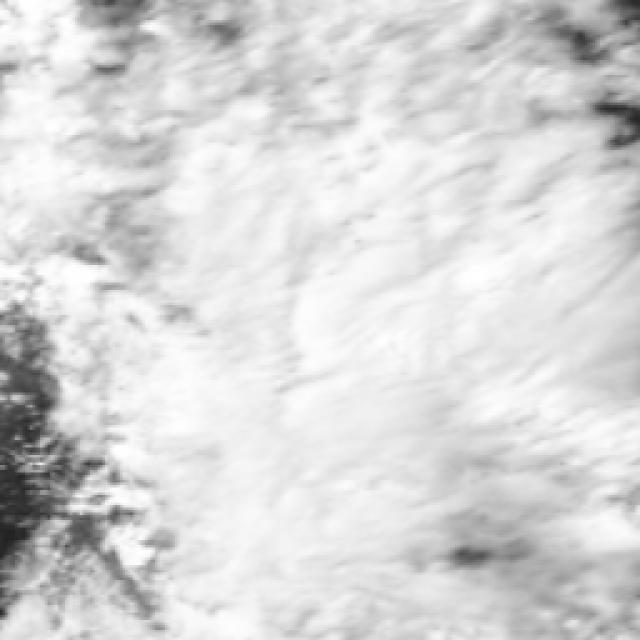CB: (161, 68, 558, 506)
